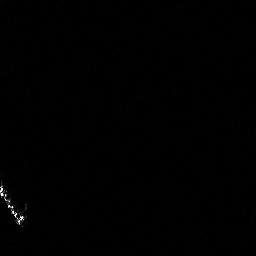ship: (1, 178, 29, 229)
